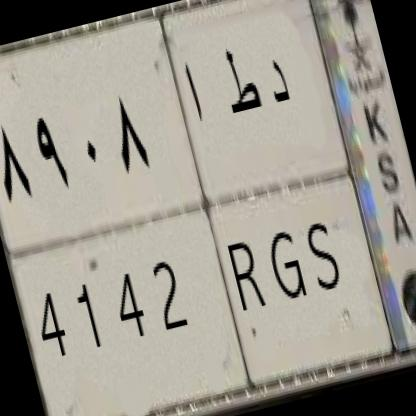english: (7, 154, 405, 416)
